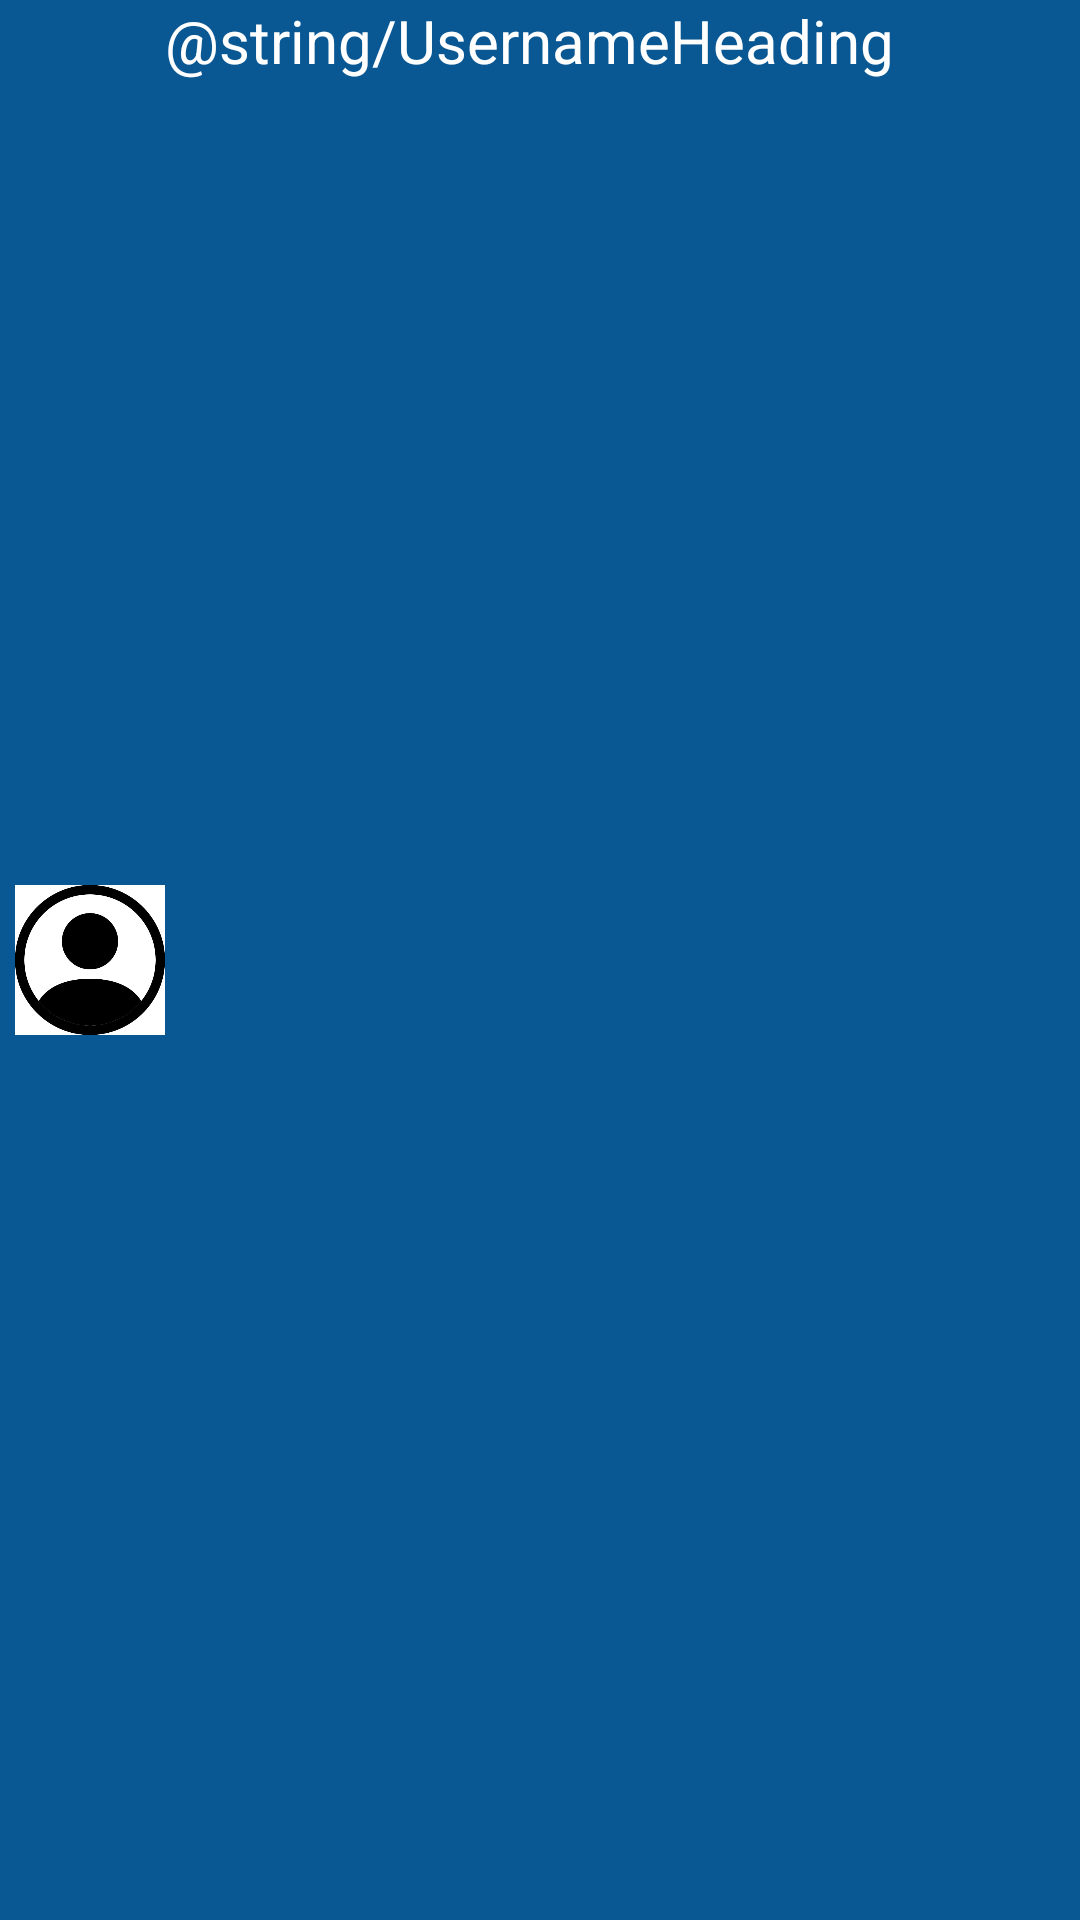

Named icons in this screenshot (1080px×1920px) and their centers, point (x, y):
person circle: point (90, 960)
